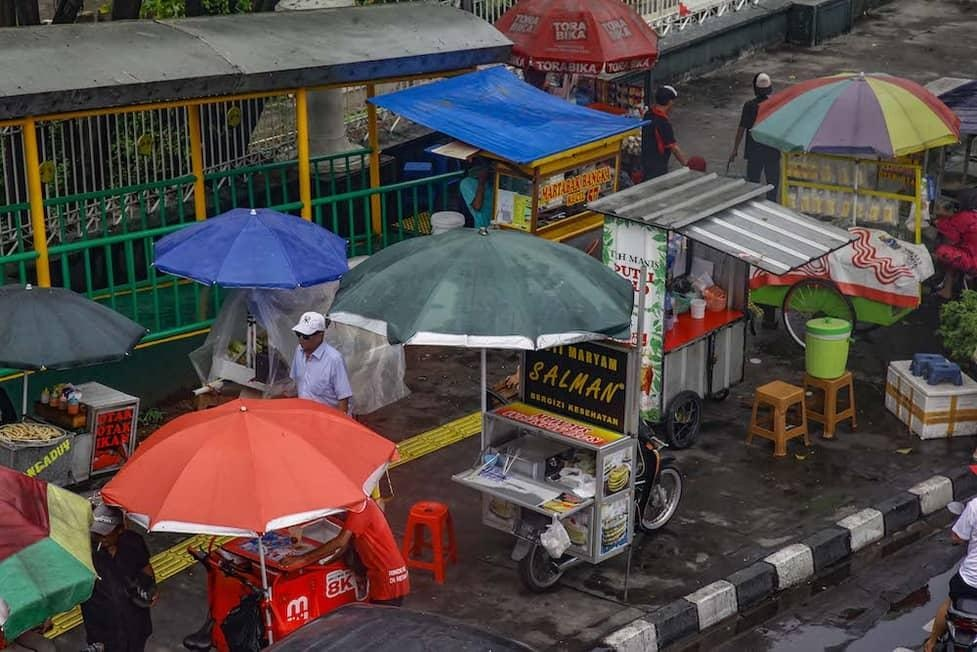Gerobak: (586, 166, 860, 450), (449, 339, 684, 593), (361, 65, 655, 244), (191, 505, 405, 649), (747, 225, 938, 355), (0, 381, 142, 489)
Payung: (98, 394, 405, 541), (322, 225, 640, 352), (747, 68, 962, 160), (0, 466, 103, 645), (151, 205, 352, 290), (0, 284, 151, 372), (493, 0, 659, 78)
